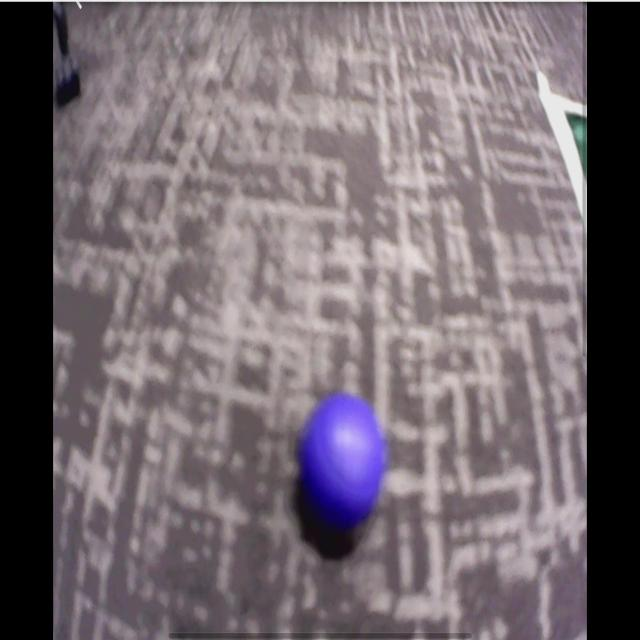ball: (307, 399, 382, 535)
